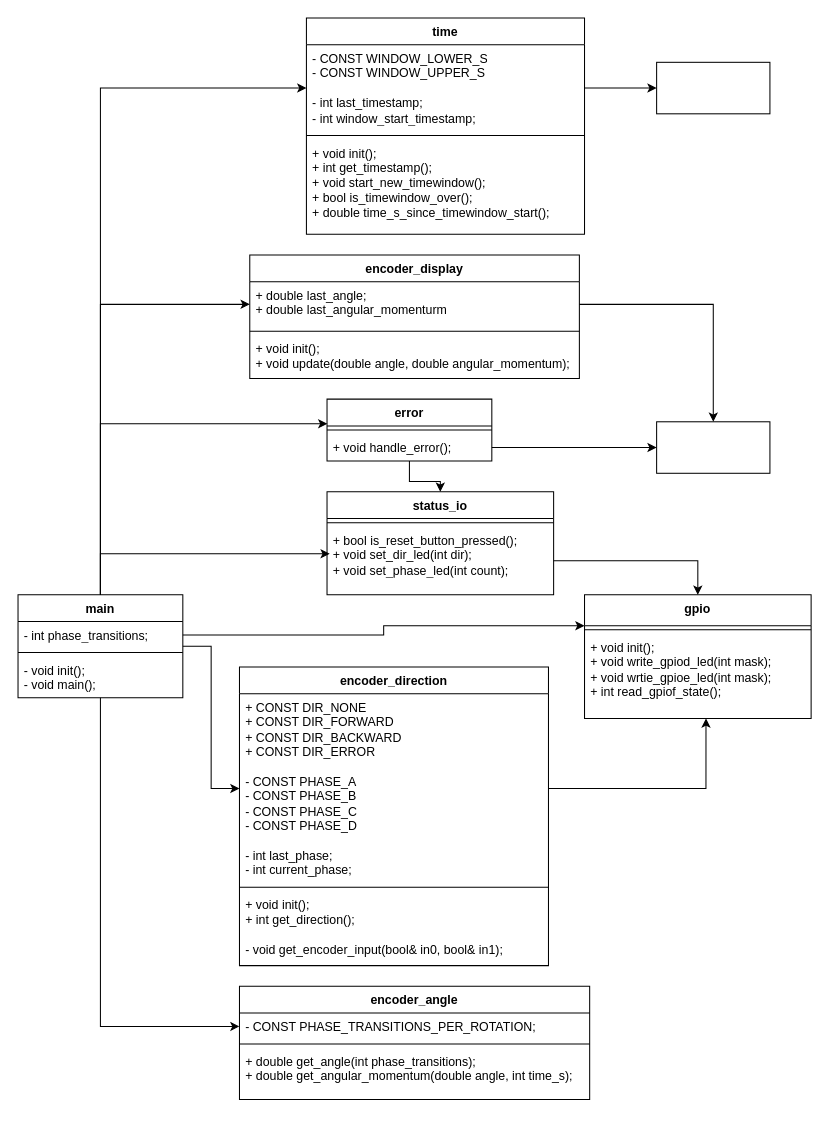
Some shapes in this 829 by 1121 pixel diagram are drawn without their labels. Each missing label, with the centre of its shape:
"display.h" goes at pixel 713 447.
"timer.h" goes at pixel 713 87.
